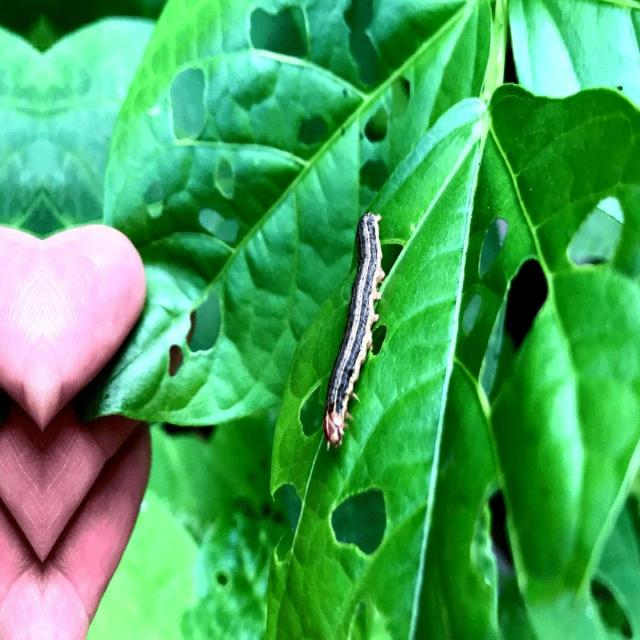Armyworm: (314, 183, 397, 479)
Armyworm_damage: (466, 263, 557, 386), (229, 9, 333, 87), (154, 55, 226, 164), (569, 182, 635, 296), (334, 1, 404, 93), (327, 479, 397, 569), (269, 459, 315, 584), (222, 60, 281, 137), (370, 67, 438, 131), (470, 214, 523, 288), (188, 286, 232, 372), (290, 103, 336, 170), (289, 365, 327, 435), (130, 180, 176, 235), (456, 277, 492, 345), (354, 164, 401, 199), (161, 335, 189, 389), (366, 111, 387, 147)
